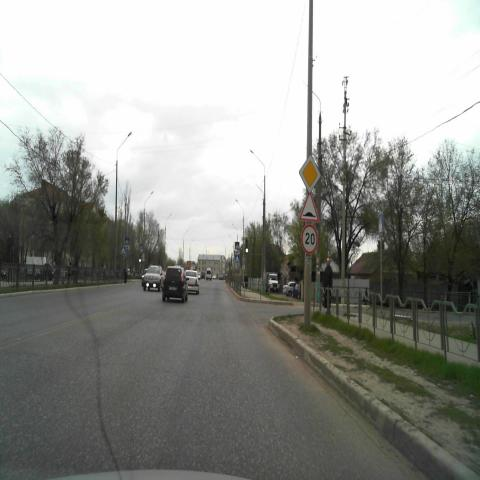3_24: (300, 224, 318, 254)
